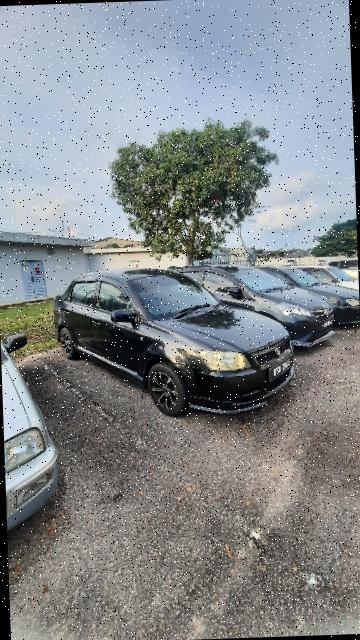License_Plate: (269, 350, 304, 389)
car: (49, 259, 298, 423), (156, 253, 337, 360), (2, 327, 74, 535)
